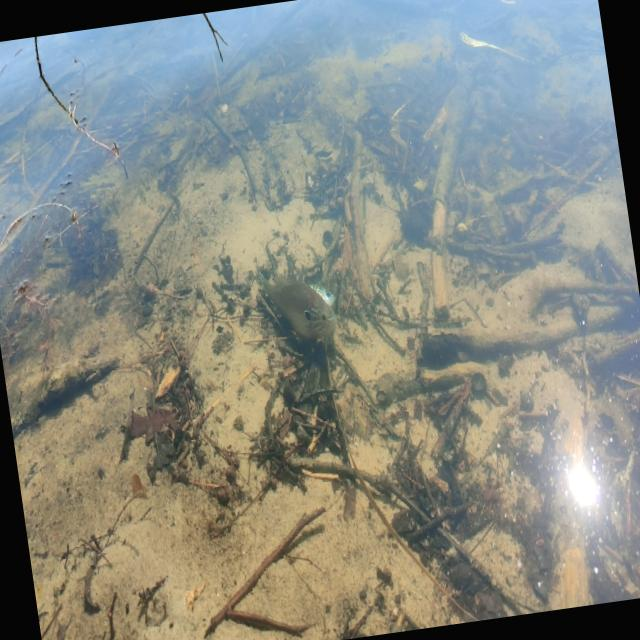Gunes Levregi: (257, 256, 344, 362)
